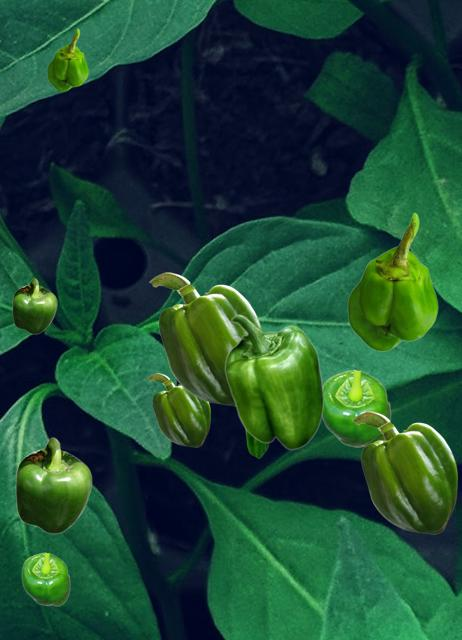bell_pepper: (149, 272, 262, 405), (224, 314, 323, 449), (352, 411, 456, 533), (347, 212, 437, 350), (15, 437, 91, 533), (322, 369, 390, 447), (147, 373, 209, 446), (21, 552, 69, 605), (47, 28, 87, 90), (12, 278, 56, 333), (245, 431, 269, 457)
